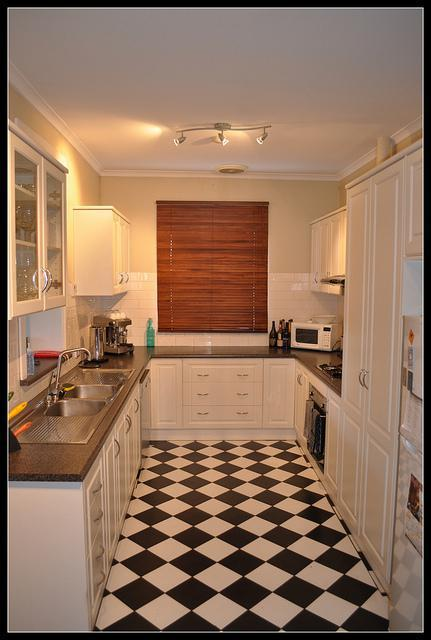Lavaplatos: (34, 340, 135, 424)
